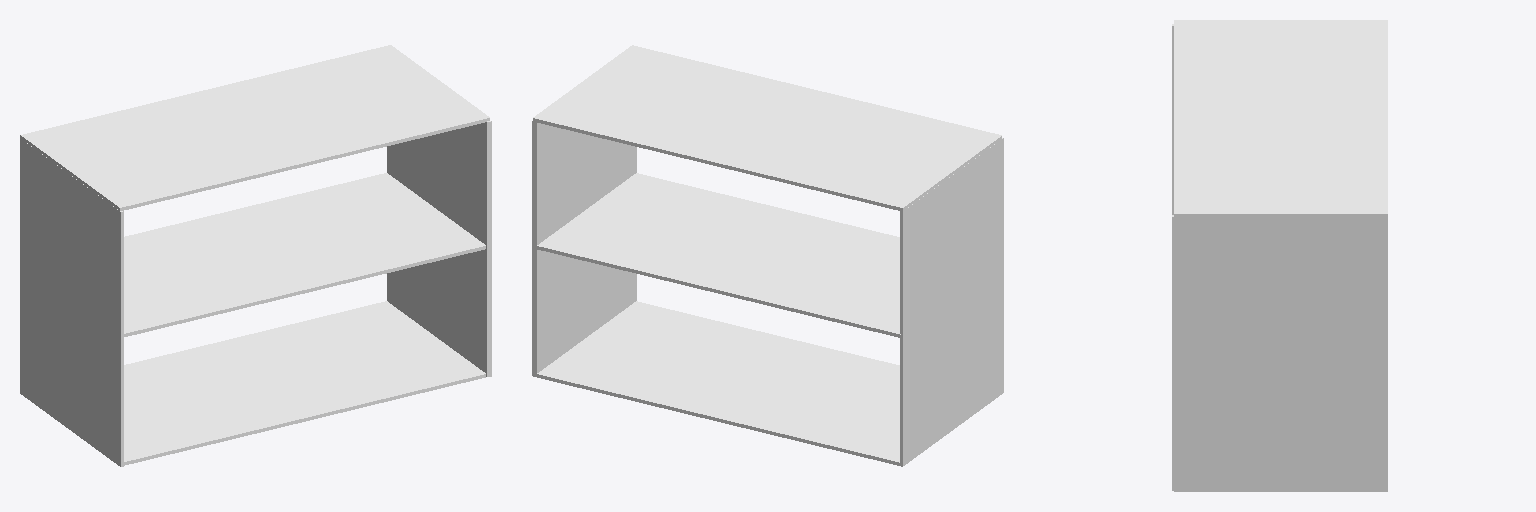
URDF robot description (shelf3.urdf):
<?xml version="0.0" ?>
<robot name="shelf3.urdf">
  <link concave="yes" name="base_link">
    <inertial>
      <mass value="0.0"/>
      <inertia ixx="0" ixy="0" ixz="0" iyy="0" iyz="0" izz="0"/>
    </inertial>
    <visual>
      <origin rpy="1.5707963 0 0"/>
      <geometry>
        <mesh filename="shelf3.obj" scale="0.009 0.006 0.009"/>
      </geometry>
      <material name="white">
        <color rgba="1 1 1 1"/>
      </material>
    </visual>
    <collision concave="yes">
      <origin rpy="1.5707963 0 0"/>
      <geometry>
        <mesh filename="shelf3.obj" scale="0.009 0.006 0.009"/>
      </geometry>
    </collision>
    <contact>
      <lateral_friction value="1.0"/>
    </contact>
  </link>
</robot>

--- Facts derived from the render (not from the file) ---
3 views of the same robot in one strip: view 1: azimuth 30°, elevation 25°; view 2: azimuth 150°, elevation 25°; view 3: azimuth 270°, elevation 25° (orthographic).
Robot: shelf3.urdf — 1 links, 0 joints (none); root link base_link; default pose: every joint at zero.
Visible links, largest first — view 1: base_link; view 2: base_link; view 3: base_link.
Boxes of the visible links, x1,y1,x2,y2 form: base_link: (20, 45, 491, 466); base_link: (532, 45, 1003, 466); base_link: (1172, 20, 1387, 491).
Bounding box of the posed robot: 0.4583 × 0.2156 × 0.3057 m (x, y, z).
1 mesh visuals loaded from 1 distinct referenced files (1 OBJ).
